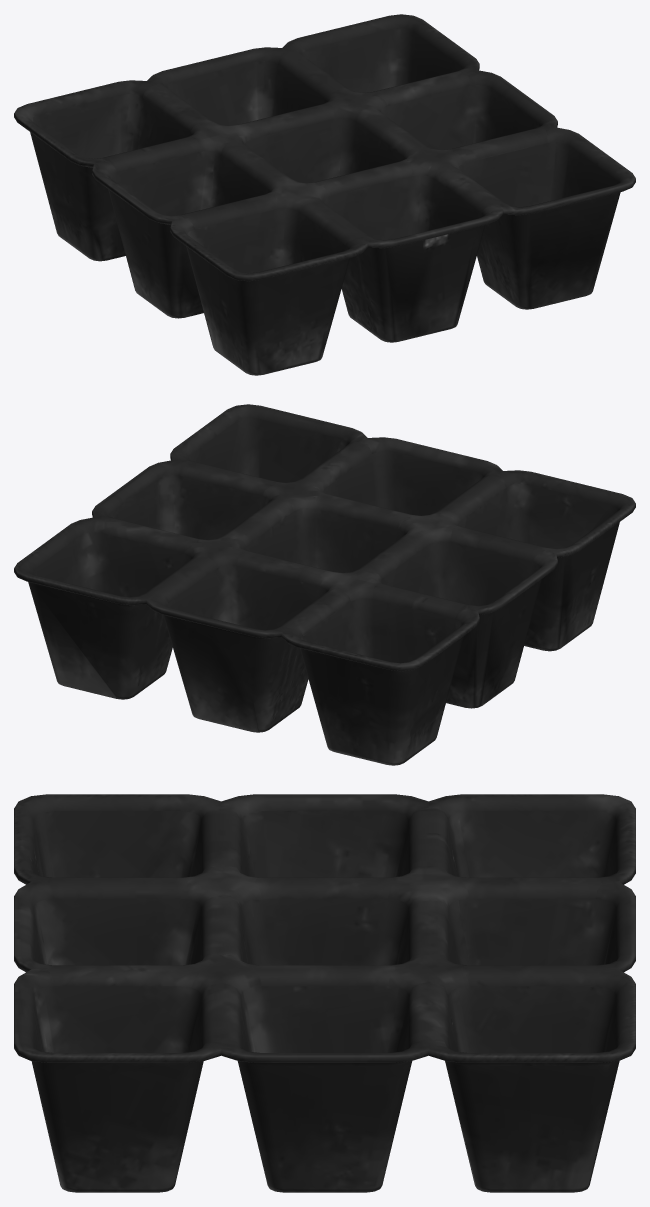
Rendered from seeding_tray_01.glb.
3 views of the same model, one above another, from view 1: azimuth 30°, elevation 25°; view 2: azimuth 150°, elevation 25°; view 3: azimuth 270°, elevation 25° (orthographic). The views are drawn at different scales.
Visible parts, largest first — view 1: seeding_tray_01; view 2: seeding_tray_01; view 3: seeding_tray_01.
Boxes of the visible parts, <box> form: seeding_tray_01: <box>14,14,635,375</box>; seeding_tray_01: <box>14,404,635,765</box>; seeding_tray_01: <box>14,794,635,1192</box>.
Size of the model in its own units: 0.2202 by 0.0608 by 0.2202.
1 material, 1 textured.
